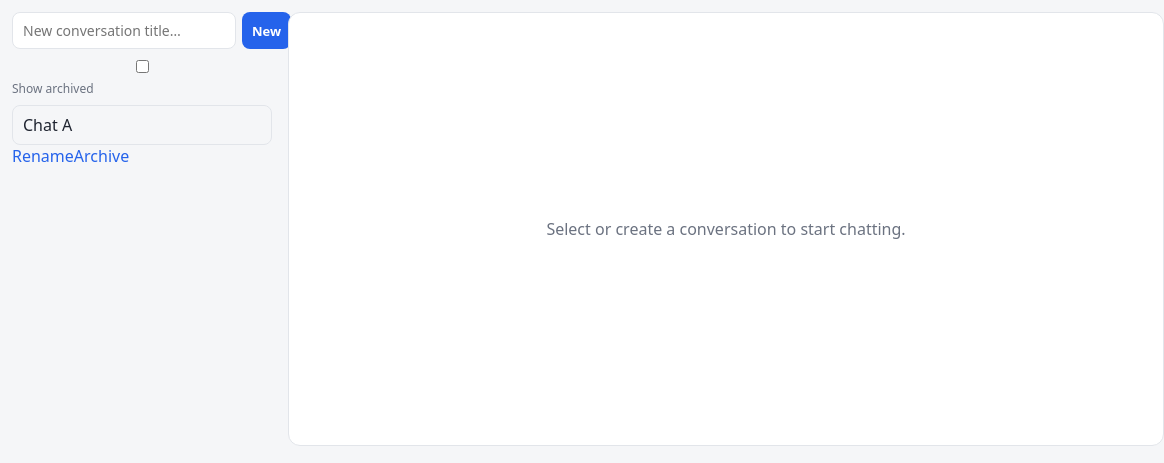
Test: ChatConsolePage › defaults the conversation title when submitted blank
Check: the button "Chat A" is shown, box [12,105,272,145]
Click the button "New" at [267, 30], box [242,12,291,49]
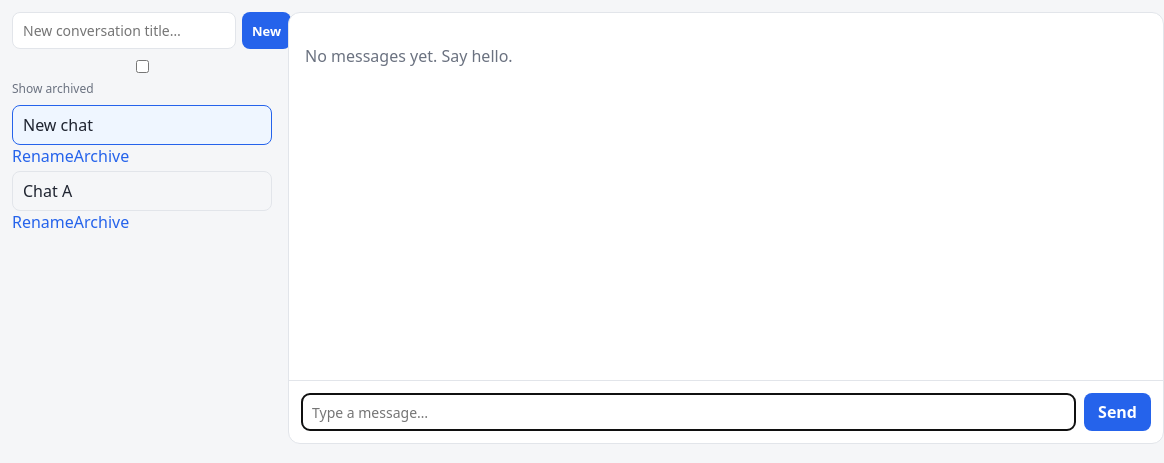
Check: the button "New chat" is shown, box [12,105,272,145]
